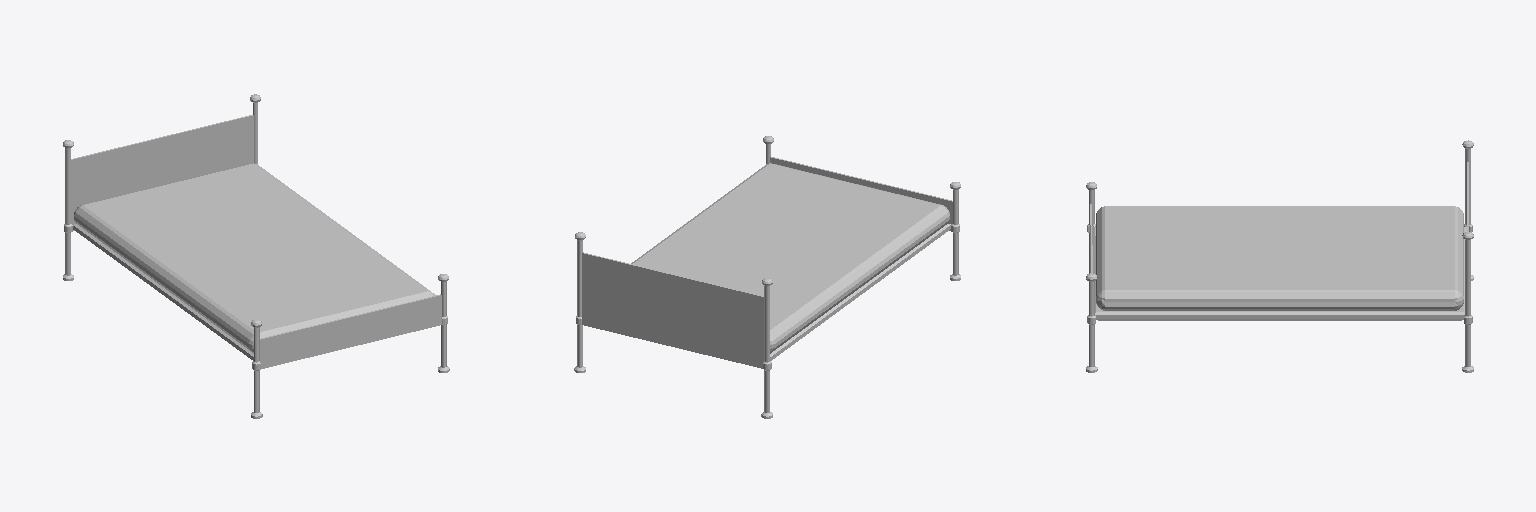
Rendered from cama.obj.
The picture shows the model from 3 angles: view 1: azimuth 30°, elevation 25°; view 2: azimuth 150°, elevation 25°; view 3: azimuth 270°, elevation 25°; orthographic projection.
Parts seen in each view (by area): view 1: cama_Mesh; view 2: cama_Mesh; view 3: cama_Mesh.
Boxes of the visible parts, x1,y1,x2,y2 form: cama_Mesh: [63, 94, 449, 418]; cama_Mesh: [574, 136, 960, 418]; cama_Mesh: [1086, 140, 1473, 372].
Size of the model in its own units: 2.09 by 1.39 by 3.56.